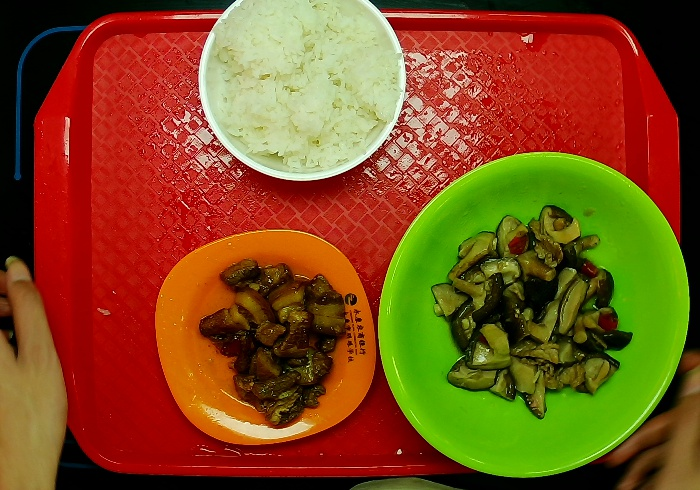YKMZ-Fan_Wan: (191, 1, 410, 186)
YKMZ-Ju_Se_Fang_Die: (150, 222, 385, 452)
YKMZ-Lv_Se_Tang_Wan: (362, 144, 693, 481)
